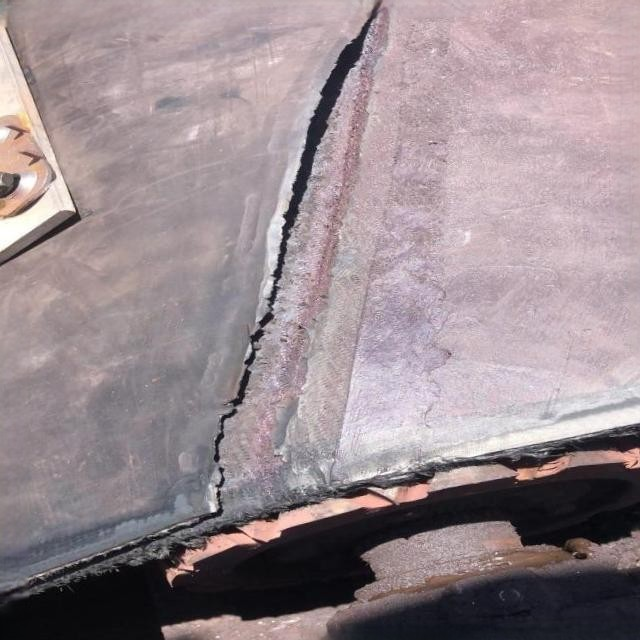Tear: (205, 0, 387, 524)
